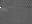person: (1, 4, 7, 9)
